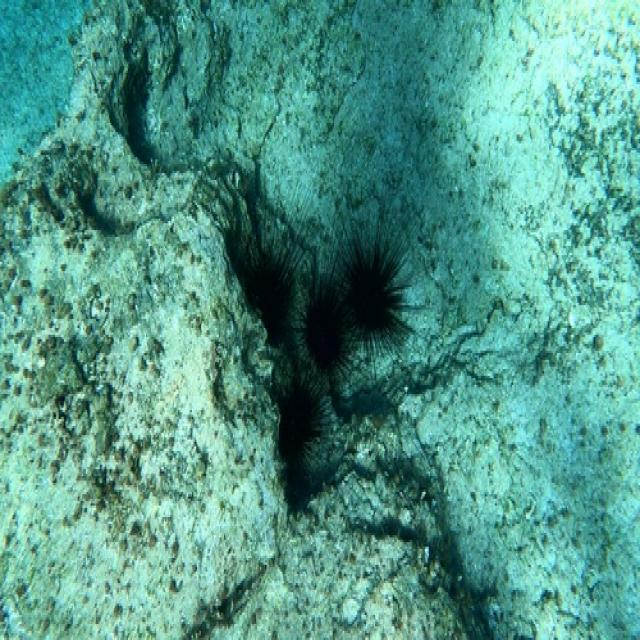Urchin: (328, 186, 421, 382), (222, 187, 310, 355), (254, 360, 346, 485), (293, 216, 359, 385)
